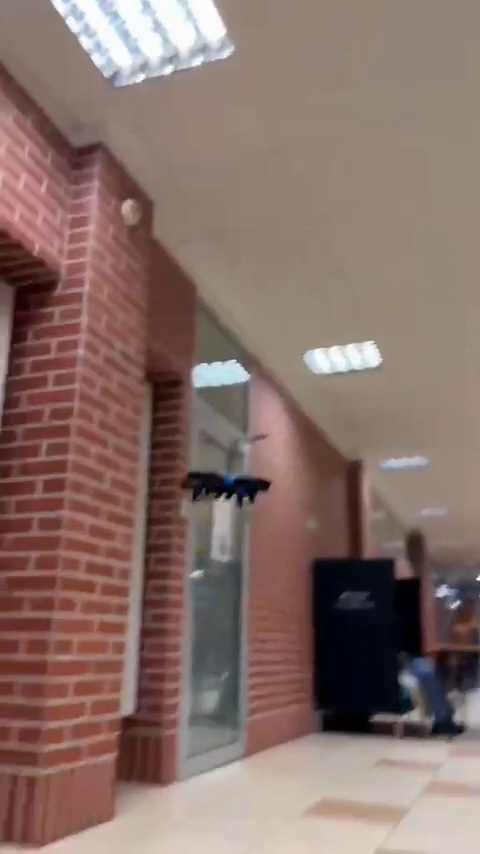drone: (180, 472, 277, 509)
